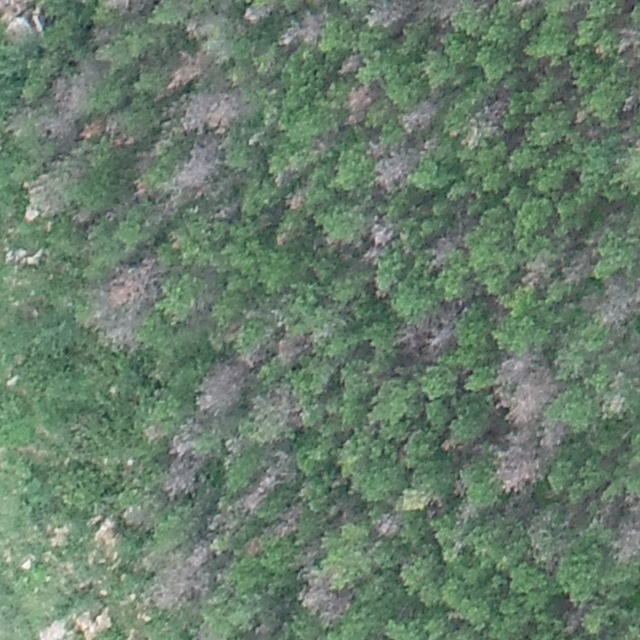unhealthy: (88, 256, 164, 344), (497, 354, 558, 426), (146, 543, 210, 611), (393, 304, 462, 359), (236, 448, 291, 508), (36, 73, 86, 138), (195, 357, 249, 415), (177, 89, 247, 133), (170, 138, 221, 197), (297, 570, 350, 625), (586, 278, 637, 329), (494, 435, 537, 492), (257, 382, 306, 429), (465, 92, 509, 144), (370, 141, 414, 193), (611, 498, 640, 565), (279, 10, 324, 49), (167, 49, 208, 91), (169, 416, 211, 455), (161, 458, 203, 497), (399, 97, 440, 134), (365, 1, 415, 31), (343, 82, 376, 126), (428, 229, 466, 267), (273, 332, 311, 367), (539, 427, 570, 469), (519, 253, 553, 291), (270, 507, 305, 542), (563, 249, 597, 285), (185, 13, 223, 41), (616, 22, 640, 63), (367, 219, 397, 248), (426, 0, 461, 24), (242, 1, 277, 25), (120, 502, 151, 529), (372, 512, 403, 539), (93, 0, 150, 12), (82, 115, 109, 140), (335, 51, 360, 77), (620, 85, 639, 118), (189, 621, 222, 639), (284, 190, 307, 212), (244, 537, 263, 557), (512, 0, 543, 10)
